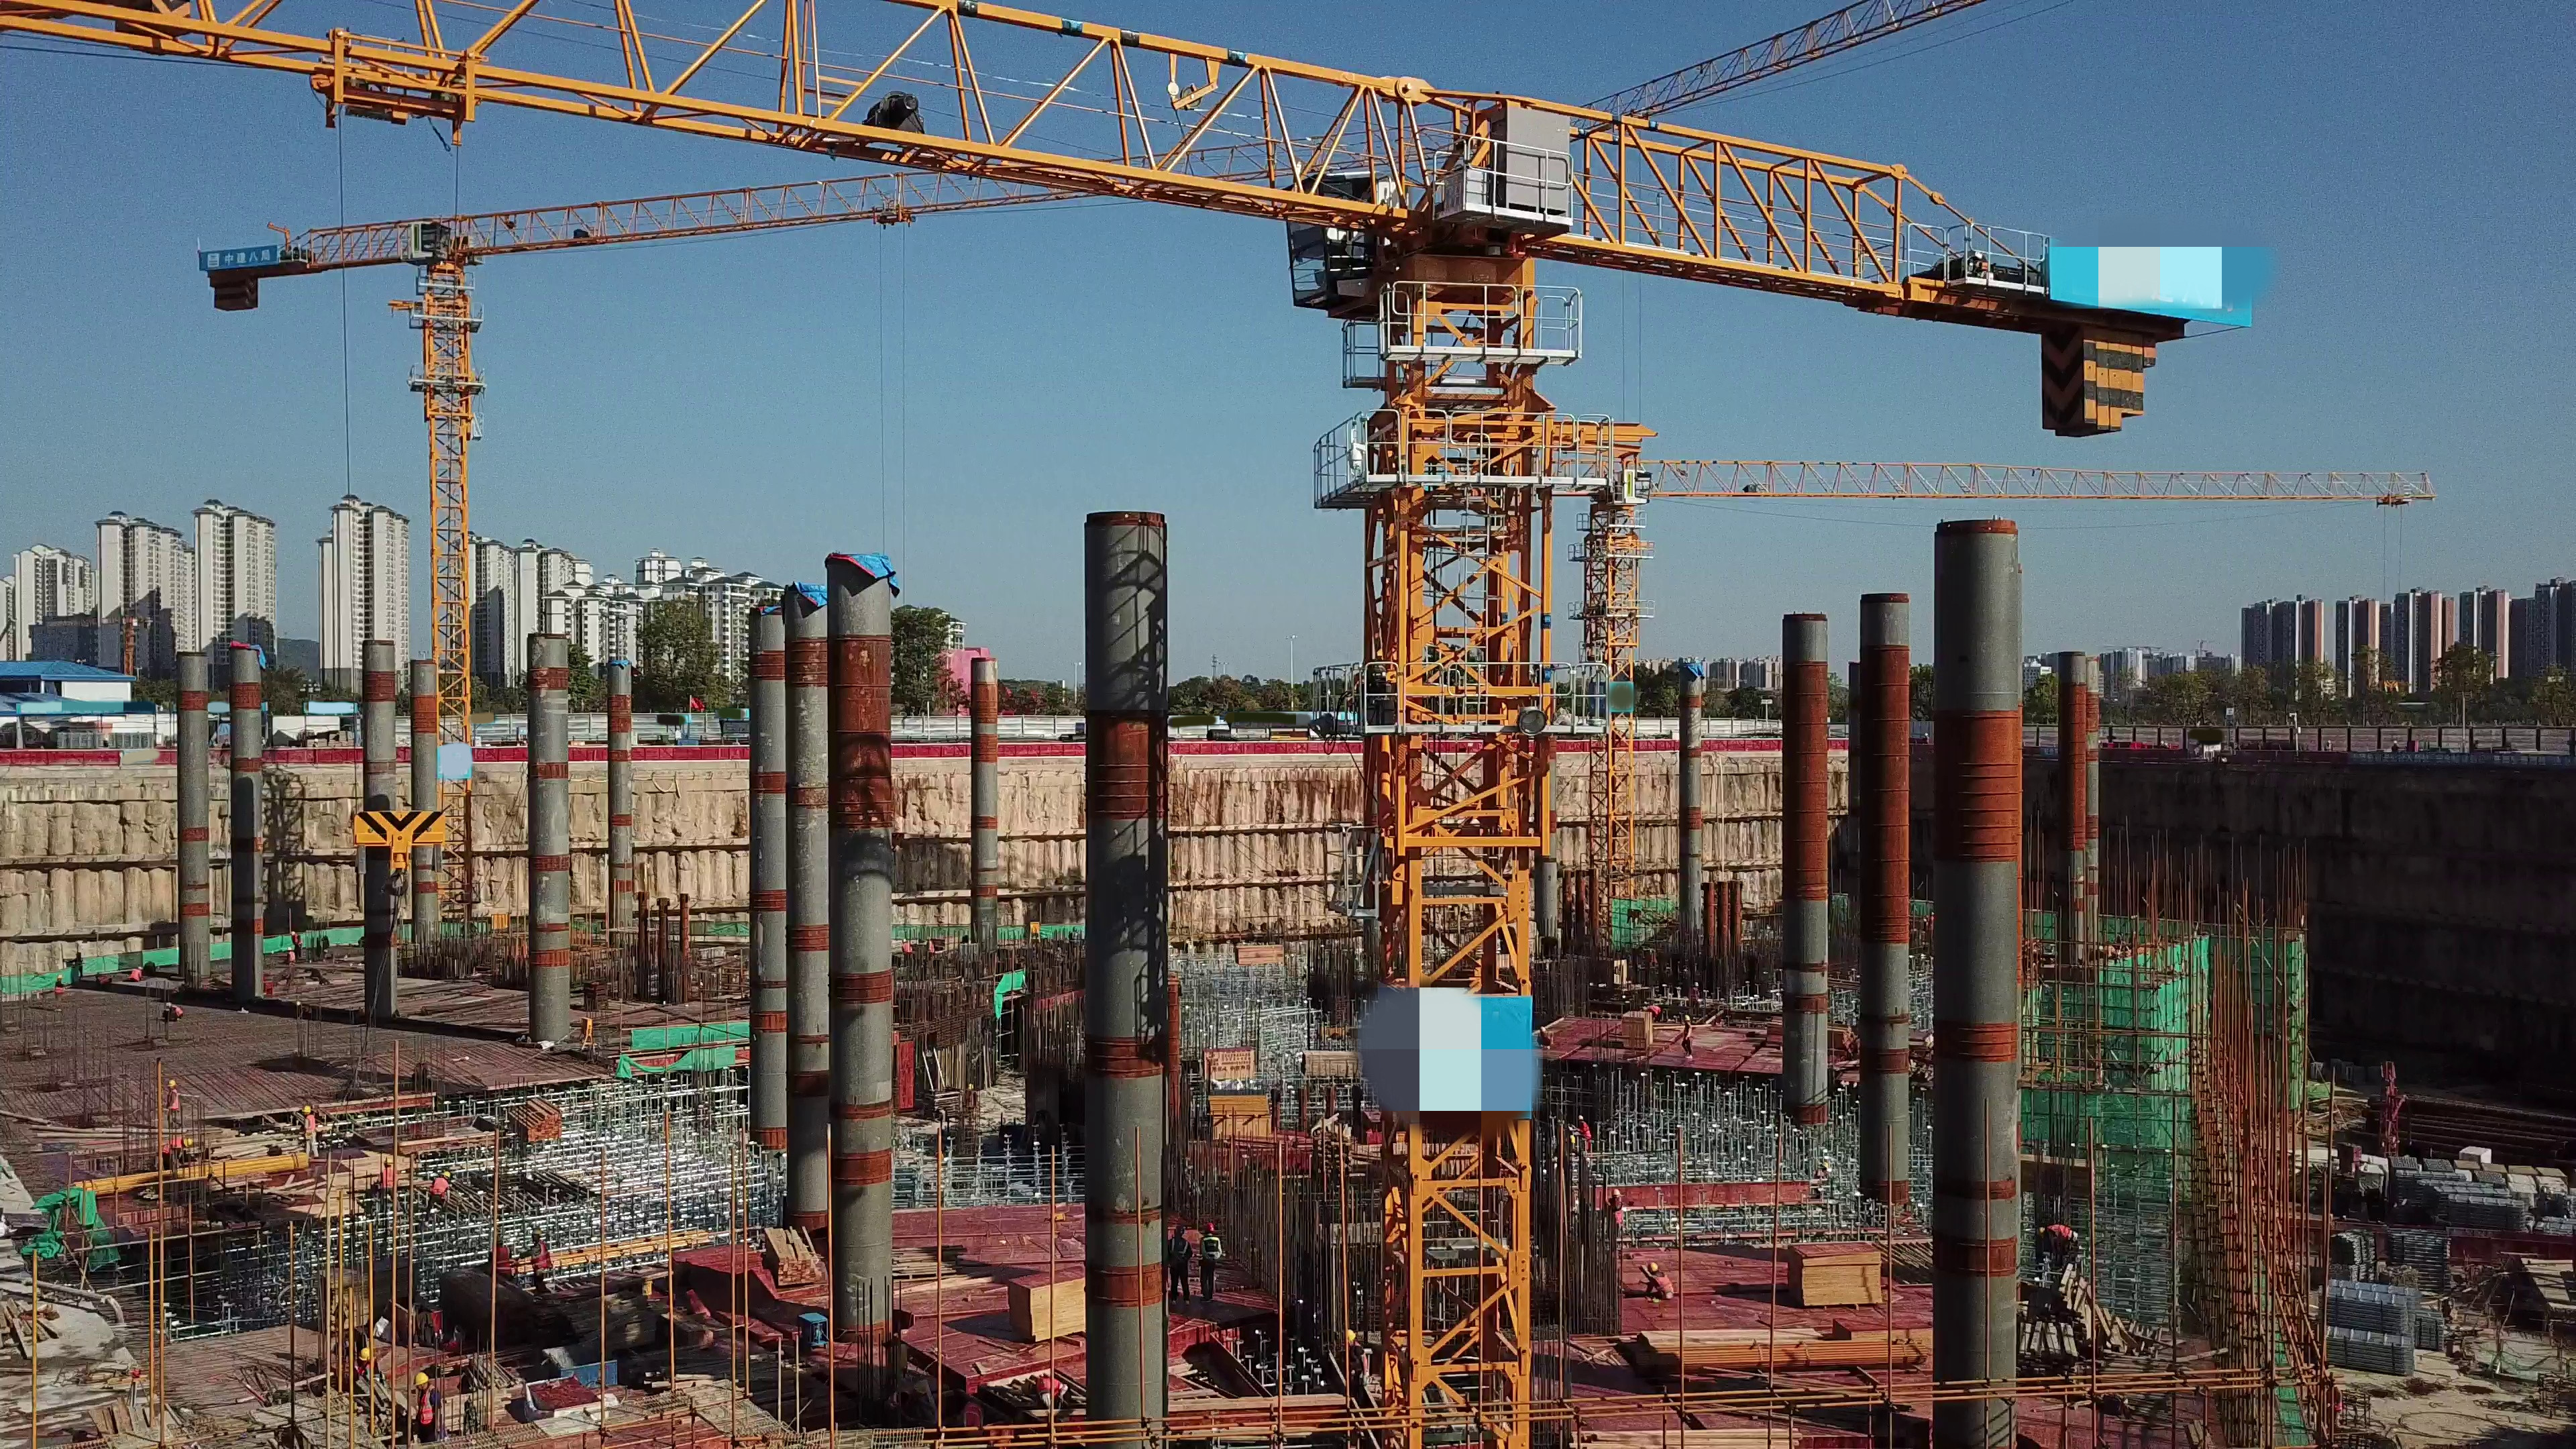helmet: (411, 1372, 429, 1386), (1341, 1330, 1356, 1343), (359, 1348, 371, 1361), (1647, 1261, 1658, 1271), (301, 1104, 311, 1113)
person: (1168, 1224, 1195, 1304), (521, 1229, 553, 1293), (415, 1373, 441, 1443), (1199, 1223, 1222, 1304), (1021, 1377, 1071, 1409), (1346, 1329, 1367, 1405), (423, 1171, 451, 1226), (2039, 1223, 2078, 1256), (1644, 1261, 1675, 1301), (489, 1236, 513, 1283), (1607, 1189, 1622, 1243), (302, 1105, 319, 1159), (166, 1079, 179, 1130), (1578, 1114, 1593, 1154), (1681, 1014, 1693, 1061), (1536, 1026, 1554, 1051), (291, 931, 303, 959), (54, 975, 66, 996), (127, 965, 146, 981), (287, 947, 295, 963)
vest: (532, 1244, 552, 1274), (1034, 1377, 1061, 1397), (417, 1391, 433, 1424), (1656, 1273, 1675, 1299), (496, 1247, 511, 1277), (1202, 1237, 1218, 1261), (433, 1177, 449, 1199), (2049, 1225, 2071, 1240), (384, 1169, 394, 1189)
